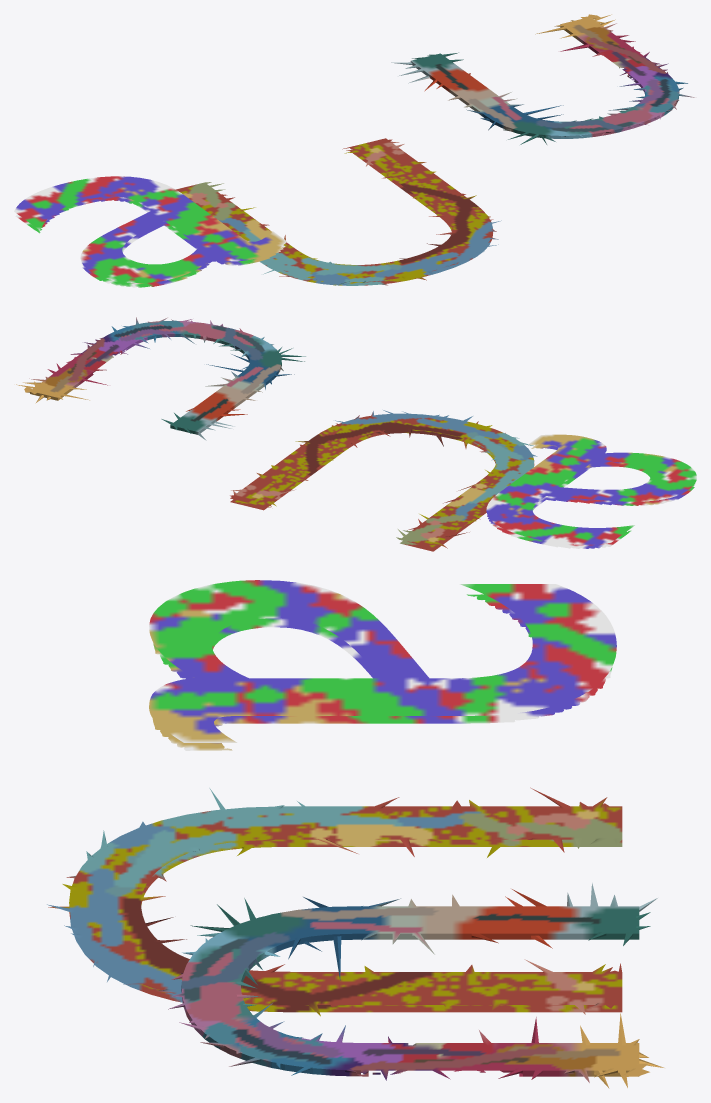
The picture shows the model from 3 angles, top to bottom: view 1: azimuth 30°, elevation 25°; view 2: azimuth 150°, elevation 25°; view 3: azimuth 270°, elevation 25°; orthographic projection. The views are drawn at different scales.
Parts seen in each view (by area): view 1: テキスト.001, テキスト, テキスト.008; view 2: テキスト, テキスト.001, テキスト.008; view 3: テキスト, テキスト.001, テキスト.008.
Part boxes in pixels (<box>): テキスト.001: <box>14,176,286,287</box>; テキスト: <box>176,138,501,285</box>; テキスト.008: <box>391,14,694,144</box>; テキスト: <box>230,410,537,551</box>; テキスト.001: <box>486,434,696,548</box>; テキスト.008: <box>16,317,305,440</box>; テキスト: <box>47,787,622,1016</box>; テキスト.001: <box>149,580,616,750</box>; テキスト.008: <box>168,883,663,1088</box>.
Bounding box in the file's own units: 35.12 × 4.02 × 16.18.
